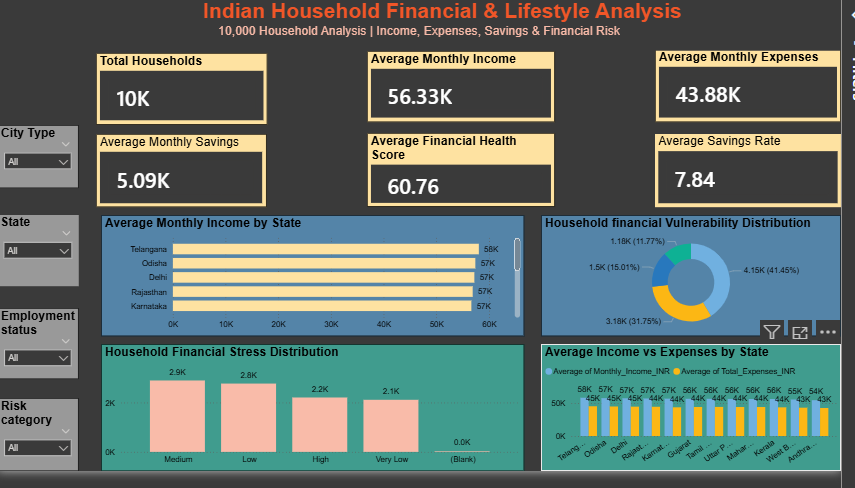

The page's visual inventory and layout, read from the dashboard file:
{"tool":"powerbi","page":{"name":"Executive Overview","canvas":[1280,720],"ordinal":0},"visuals":[{"type":"cardVisual","title":"Total Households","fields":{"Data":["HouseholdData.Total Households"]},"box":[221.4,88,259.3,107.7],"z":0},{"type":"cardVisual","title":"Average Monthly Income","fields":{"Data":["HouseholdData.Average Monthly Income"]},"box":[588.4,88,285.1,107.7],"z":1000},{"type":"cardVisual","title":"Average Monthly Expenses","fields":{"Data":["HouseholdData.Average Monthly Expenses"]},"box":[997.9,80.4,282.1,110.7],"z":2000},{"type":"cardVisual","title":"Average Monthly Savings","fields":{"Data":["HouseholdData.Average Monthly Savings"]},"box":[221.4,210.8,257.8,110.7],"z":3000},{"type":"cardVisual","title":"Average Financial Health Score","fields":{"Data":["HouseholdData.Average Financial Health Score"]},"box":[588.4,209.3,285.1,112.2],"z":4000},{"type":"cardVisual","title":"Average Savings Rate","fields":{"Data":["HouseholdData.Average Savings Rate"]},"box":[997.9,209.3,282.1,110.7],"z":5000},{"type":"clusteredBarChart","title":"Average Monthly Income by State","fields":{"Category":["HouseholdData.State"],"Y":["Avg(HouseholdData.Monthly_Income_INR)"]},"box":[221.4,332.1,577.8,183.5],"z":6000},{"type":"donutChart","title":"Household financial Vulnerability Distribution","fields":{"Category":["HouseholdData.Financial_Vulnerability_Category"],"Y":["Count(HouseholdData.Household_ID)"]},"box":[825,332.1,455,183.5],"z":7000},{"type":"clusteredColumnChart","title":"Household Financial Stress Distribution","fields":{"Category":["HouseholdData.Financial_Stress_Level"],"Y":["Count(HouseholdData.Household_ID)"]},"box":[221.4,527.8,577.8,192.6],"z":8000},{"type":"clusteredColumnChart","title":"Average Income vs Expenses by State","fields":{"Category":["HouseholdData.State"],"Y":["Avg(HouseholdData.Monthly_Income_INR)","Avg(HouseholdData.Total_Expenses_INR)"]},"box":[825,527.8,455,192.6],"z":9000},{"type":"slicer","title":"State","fields":{"Values":["HouseholdData.State"]},"box":[15.2,373.1,175.9,78.9],"z":10000},{"type":"slicer","title":"City Type","fields":{"Values":["HouseholdData.City_Type"]},"box":[15.2,238.1,175.9,81.9],"z":11000},{"type":"slicer","title":"Employment status","fields":{"Values":["HouseholdData.Employment_Status"]},"box":[15.2,483.8,175.9,86.4],"z":12000},{"type":"slicer","title":"Risk category","fields":{"Values":["HouseholdData.Financial_Vulnerability_Category"]},"box":[15.2,612.7,175.9,92.5],"z":13000},{"type":"textbox","box":[0,0,1280,83.4],"z":14000}]}

Visuals, with their boxes on the page's 1280x720 design canvas (x1, y1, x2, y2). These are canvas units, not pixel positions in the 855x488 screenshot, which may show the page scaled, cropped or inside an application window:
"Total Households" cardVisual: BBox(221, 88, 481, 196)
"Average Monthly Income" cardVisual: BBox(588, 88, 874, 196)
"Average Monthly Expenses" cardVisual: BBox(998, 80, 1280, 191)
"Average Monthly Savings" cardVisual: BBox(221, 211, 479, 322)
"Average Financial Health Score" cardVisual: BBox(588, 209, 874, 322)
"Average Savings Rate" cardVisual: BBox(998, 209, 1280, 320)
"Average Monthly Income by State" clusteredBarChart: BBox(221, 332, 799, 516)
"Household financial Vulnerability Distribution" donutChart: BBox(825, 332, 1280, 516)
"Household Financial Stress Distribution" clusteredColumnChart: BBox(221, 528, 799, 720)
"Average Income vs Expenses by State" clusteredColumnChart: BBox(825, 528, 1280, 720)
"State" slicer: BBox(15, 373, 191, 452)
"City Type" slicer: BBox(15, 238, 191, 320)
"Employment status" slicer: BBox(15, 484, 191, 570)
"Risk category" slicer: BBox(15, 613, 191, 705)
textbox: BBox(0, 0, 1280, 83)
